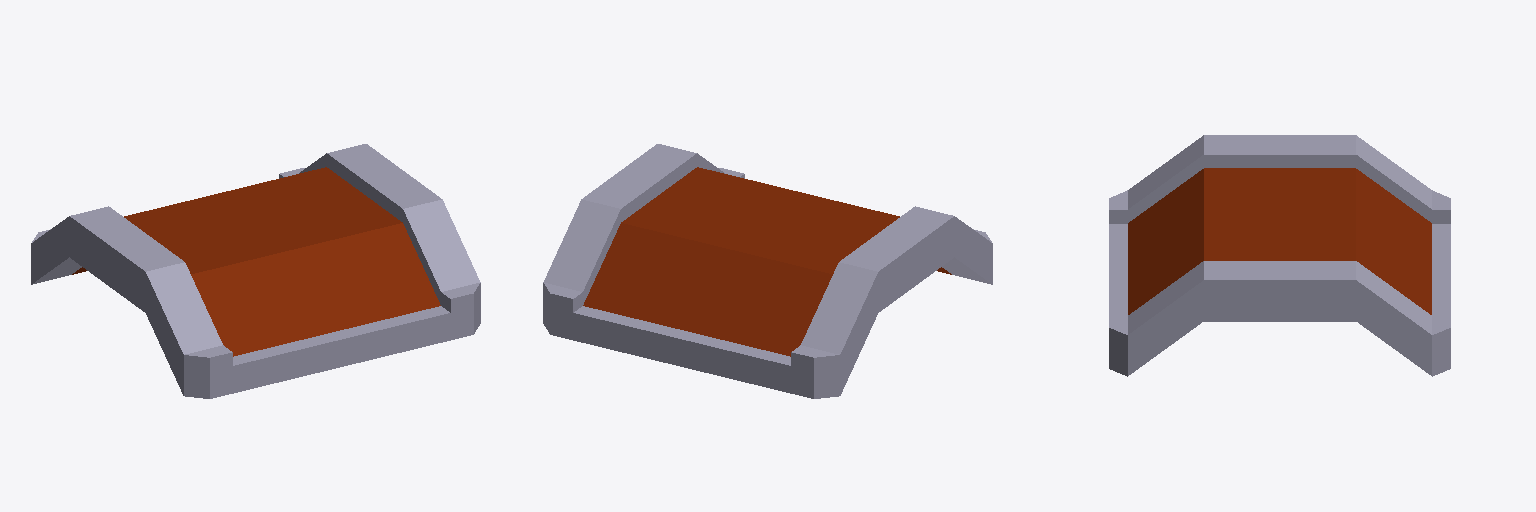
The model's file is end.obj.
3 views of the same model, side by side, from view 1: azimuth 30°, elevation 25°; view 2: azimuth 150°, elevation 25°; view 3: azimuth 270°, elevation 25° (orthographic).
Visible parts, largest first — view 1: roof_window_5; view 2: roof_window_5; view 3: roof_window_5.
Part boxes in pixels (bbox=[...]): roof_window_5: bbox=[31, 144, 480, 398]; roof_window_5: bbox=[543, 144, 992, 398]; roof_window_5: bbox=[1109, 135, 1450, 376].
Size of the model in its own units: 1.12 by 0.35 by 1.12.